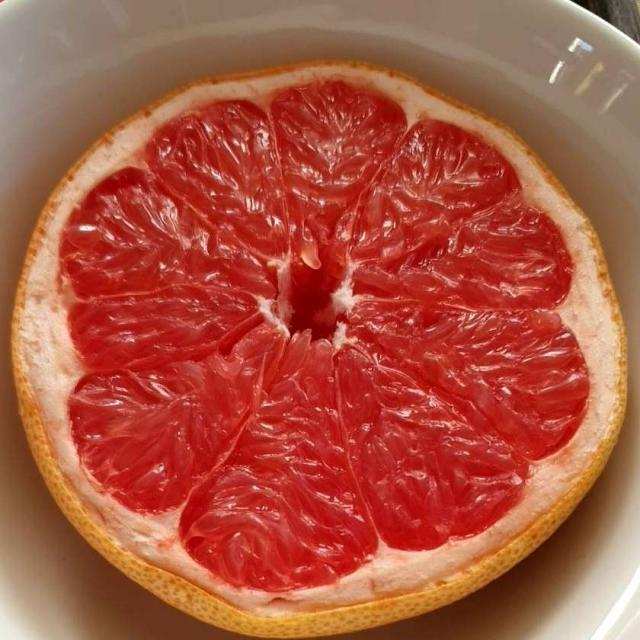grapefruit-pomelo: (20, 70, 615, 618)
